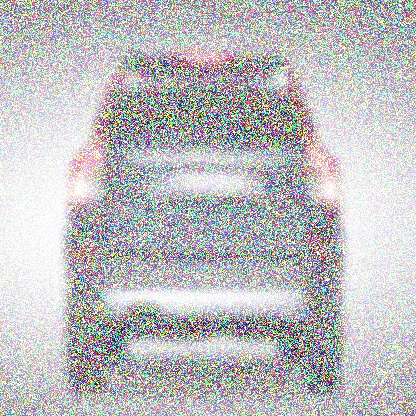Vehicle: (63, 44, 345, 396)
